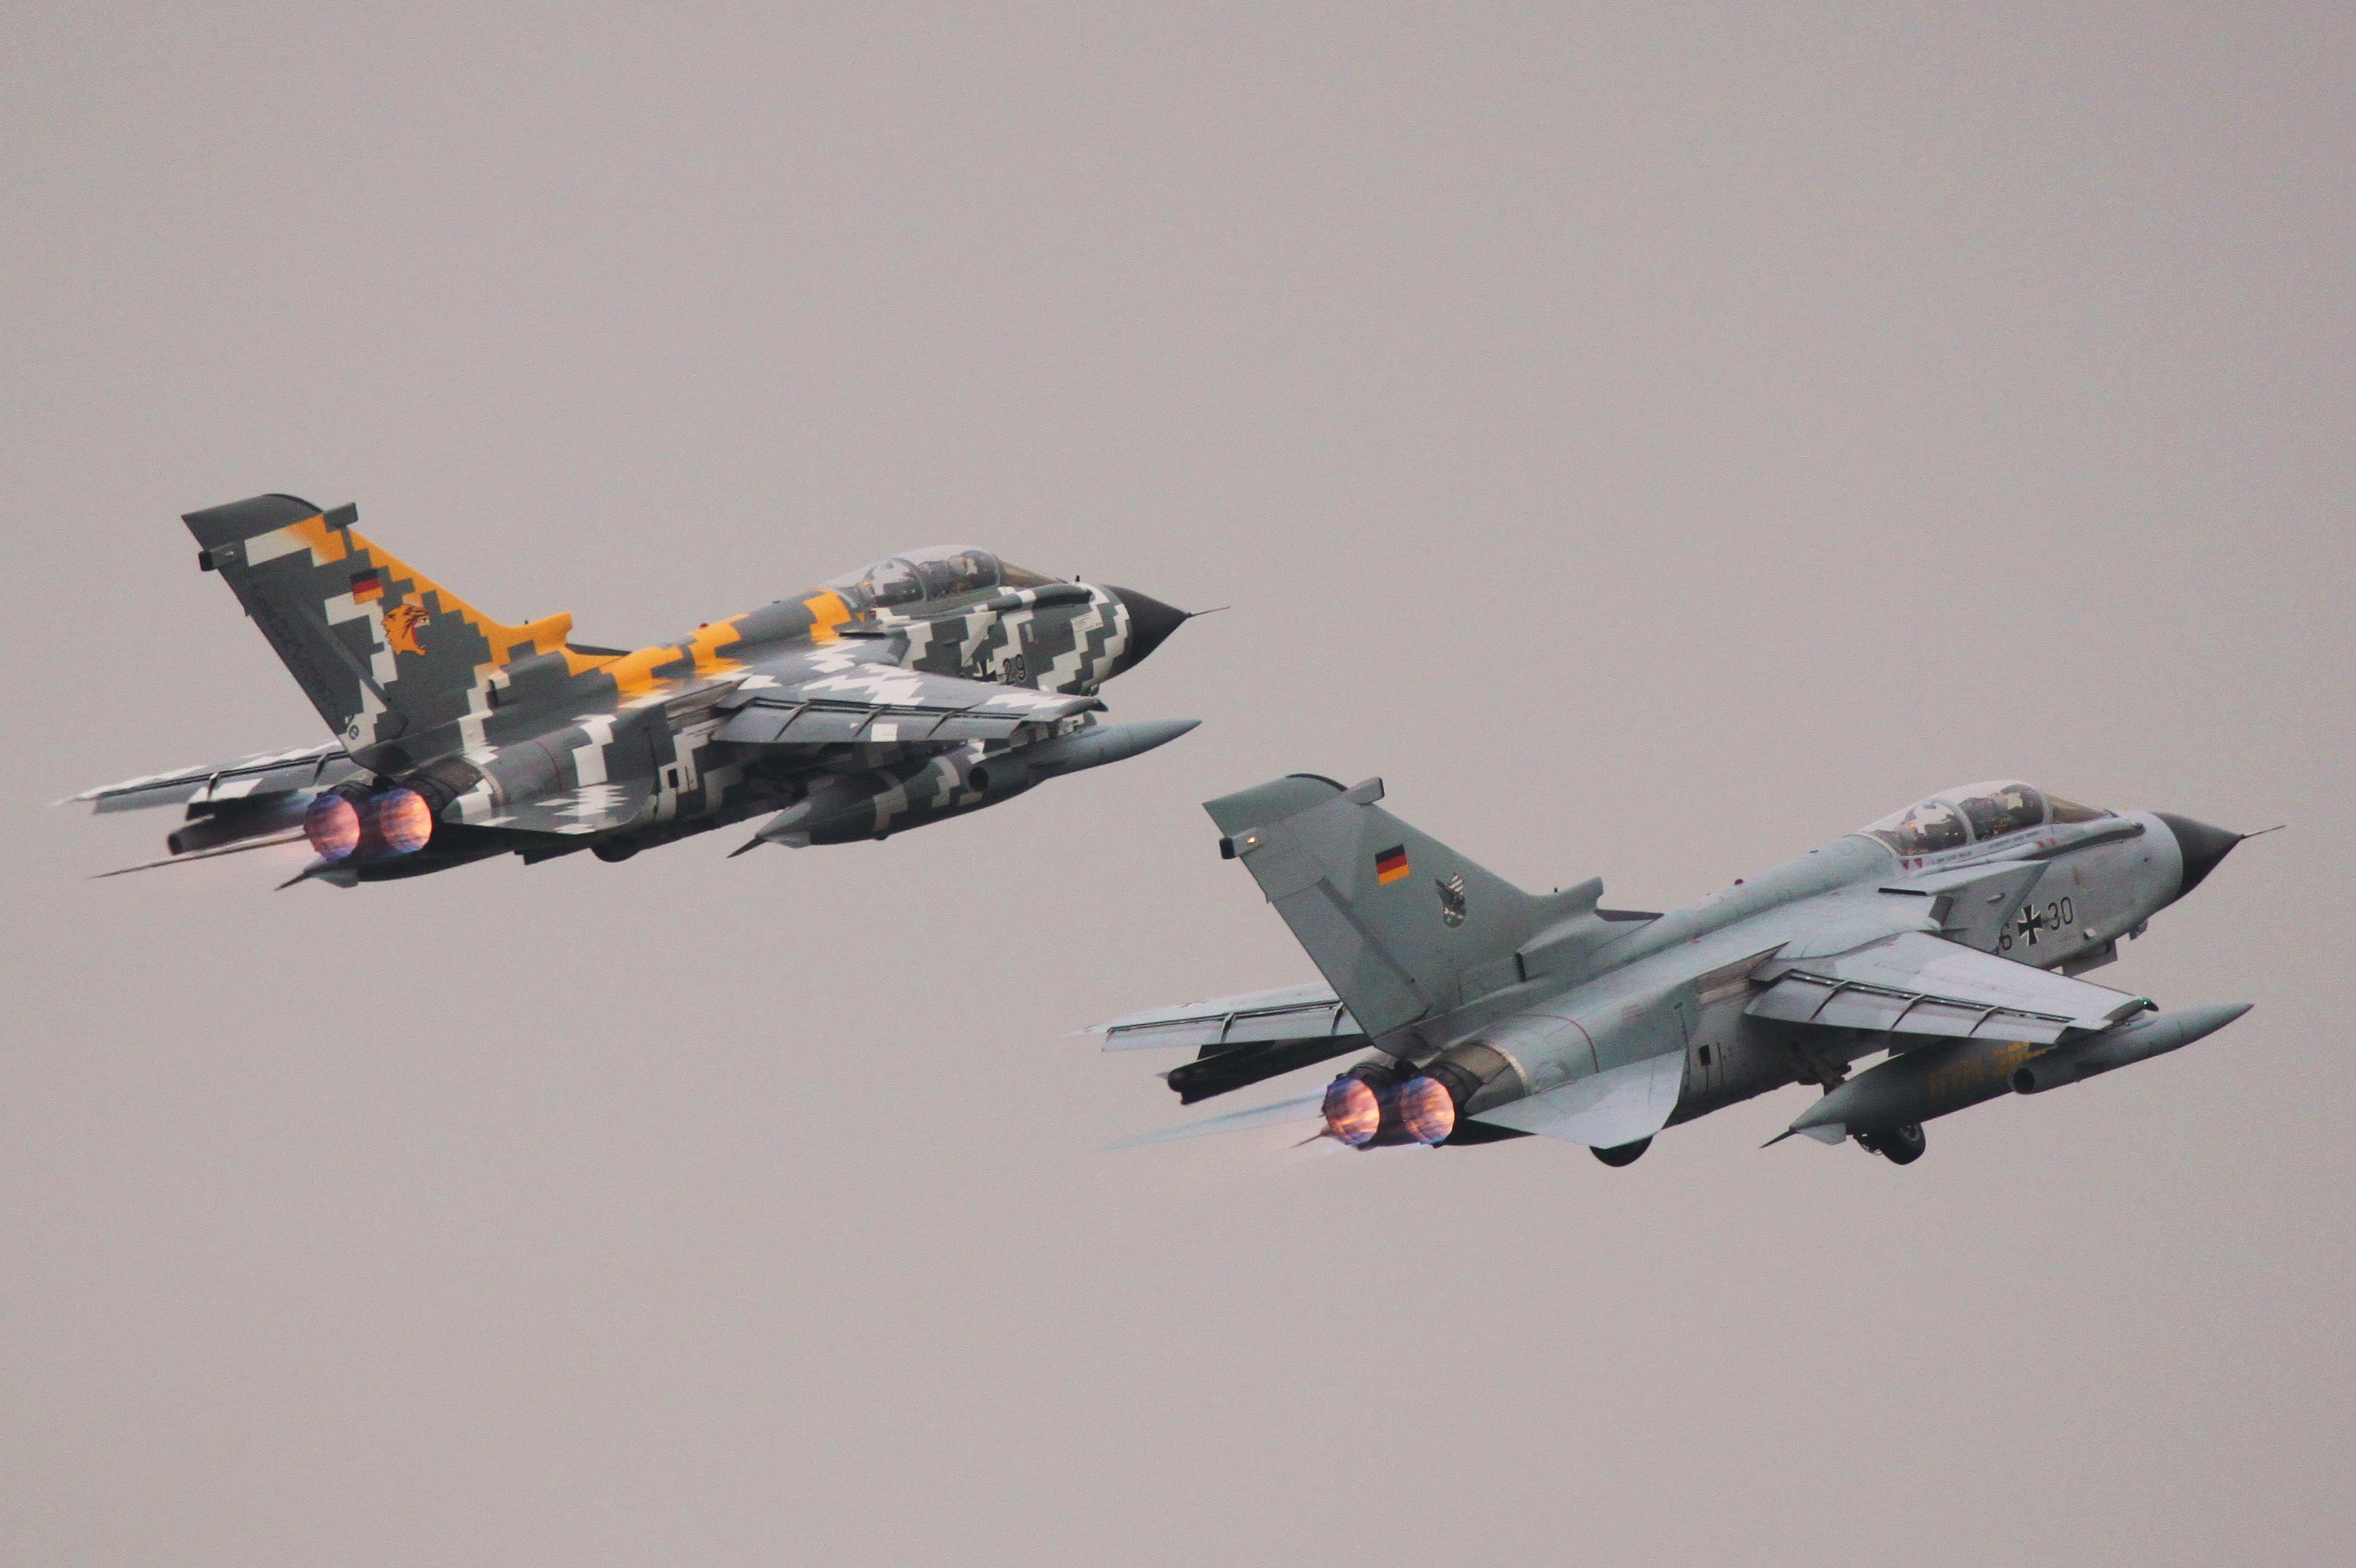Tornado: (1052, 772, 2288, 1167), (44, 492, 1231, 891)
